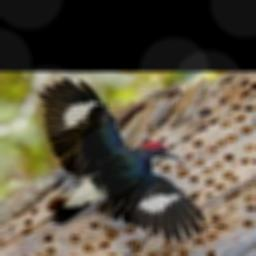Woodpecker: (39, 78, 206, 242)
